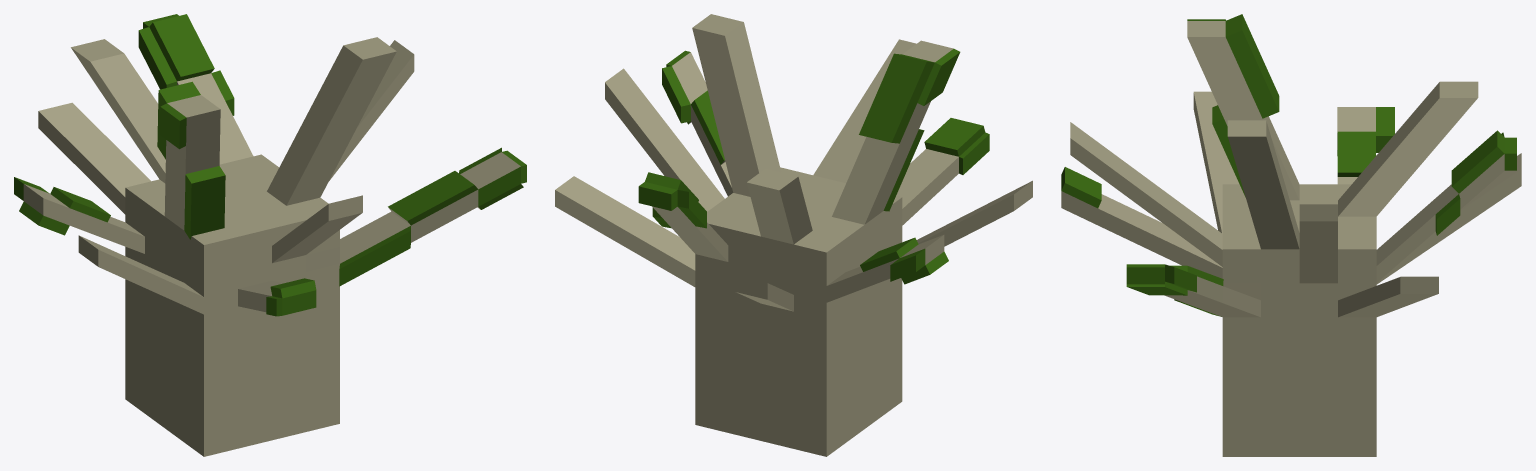
The model's file is bush_model.obj.
3 views of the same model, side by side, from view 1: azimuth 30°, elevation 25°; view 2: azimuth 150°, elevation 25°; view 3: azimuth 270°, elevation 25° (orthographic). The views are drawn at different scales.
Parts seen in each view (by area): view 1: Cube; view 2: Cube; view 3: Cube.
Boxes of the visible parts, <box> form: Cube: <box>14,14,526,456</box>; Cube: <box>555,14,1032,456</box>; Cube: <box>1061,14,1521,456</box>.
Bounding box in the file's own units: 5.8 × 5.17 × 5.98.
